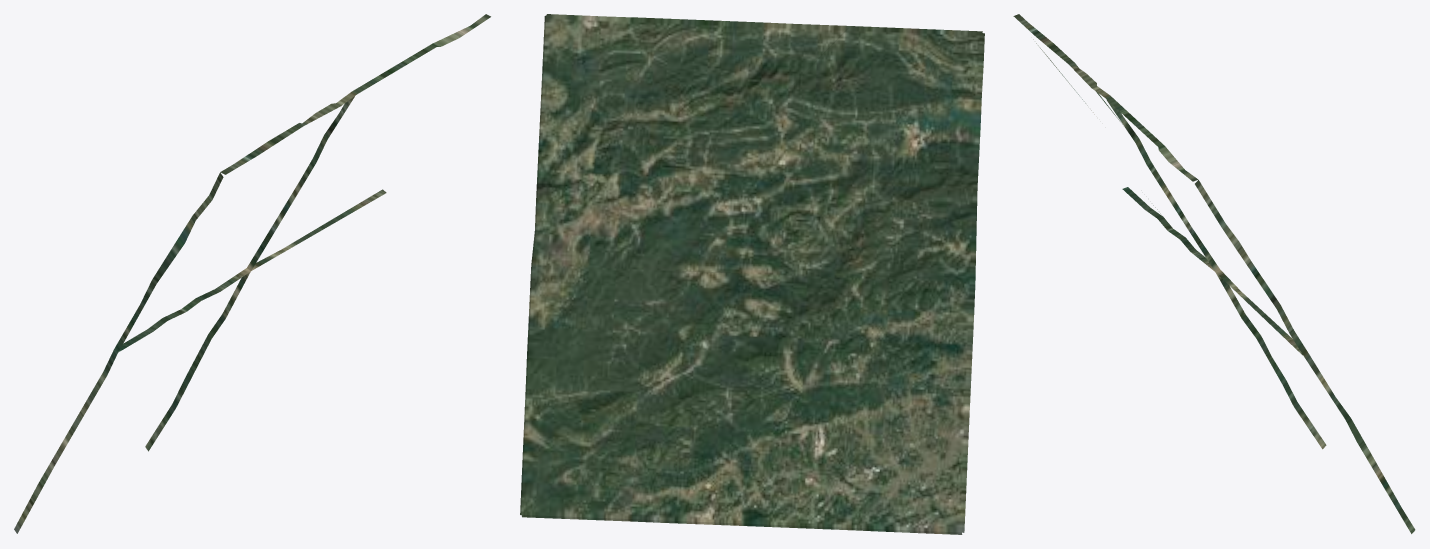
The picture shows the model from 3 angles, left to right: view 1: azimuth 30°, elevation 25°; view 2: azimuth 150°, elevation 25°; view 3: azimuth 270°, elevation 25°; orthographic projection. The views are drawn at different scales.
Bounding box in the file's own units: 157608 × 139320 × 127772.
Materials: 1 (1 with a texture image).
